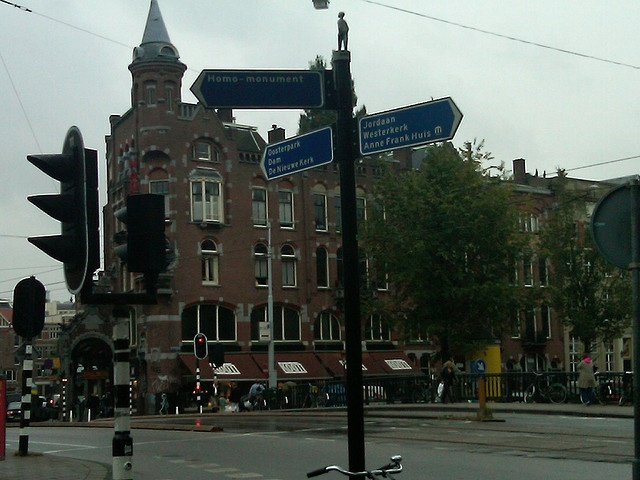non-vehicle: (307, 455, 401, 479), (522, 368, 566, 404), (582, 378, 609, 405), (302, 383, 330, 408)
